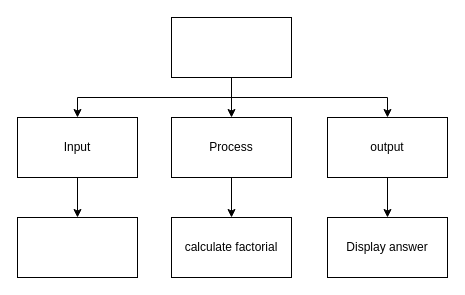
The diagram is 465 pixels wide and 295 high, and some of its shapes have lost their labels. Each missing label, with the centre of its shape:
"Circumference" belongs at pixel 231 47.
"Get integer" belongs at pixel 77 247.
